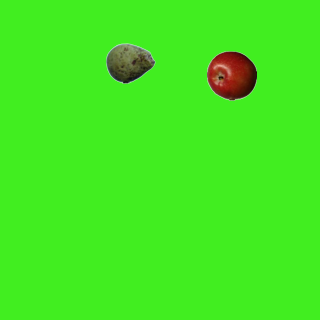Apple Braeburn: (206, 50, 256, 100)
Pear Stone: (105, 38, 155, 88)
